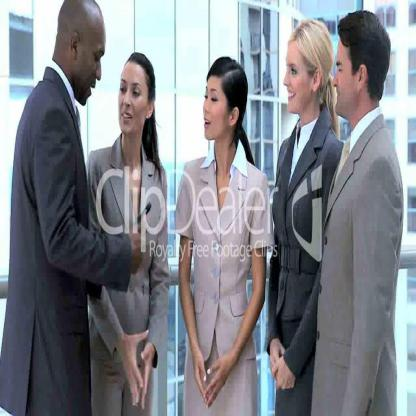face: (76, 37, 106, 107), (120, 71, 150, 134), (284, 51, 313, 113), (334, 46, 359, 115), (204, 81, 231, 140)
